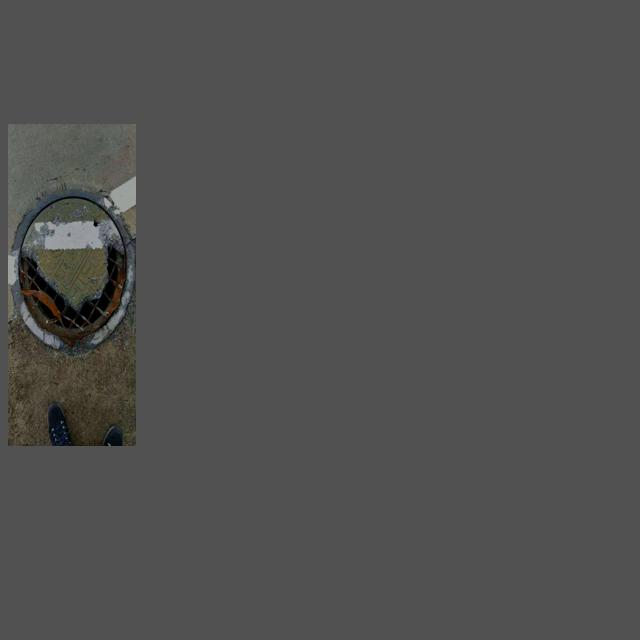broke: (11, 190, 135, 355)
